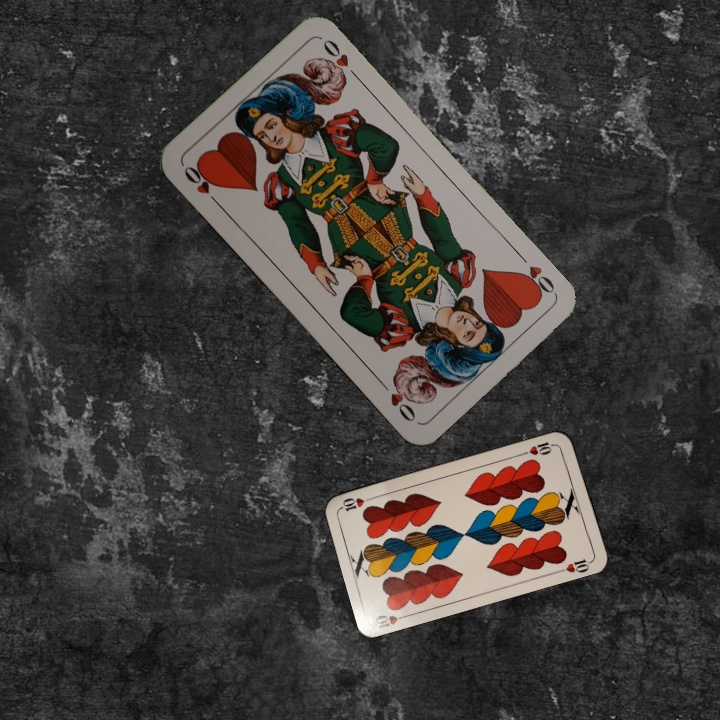H10: (371, 609, 412, 632), (519, 438, 559, 458)
HO: (514, 249, 558, 301), (179, 160, 224, 209)
